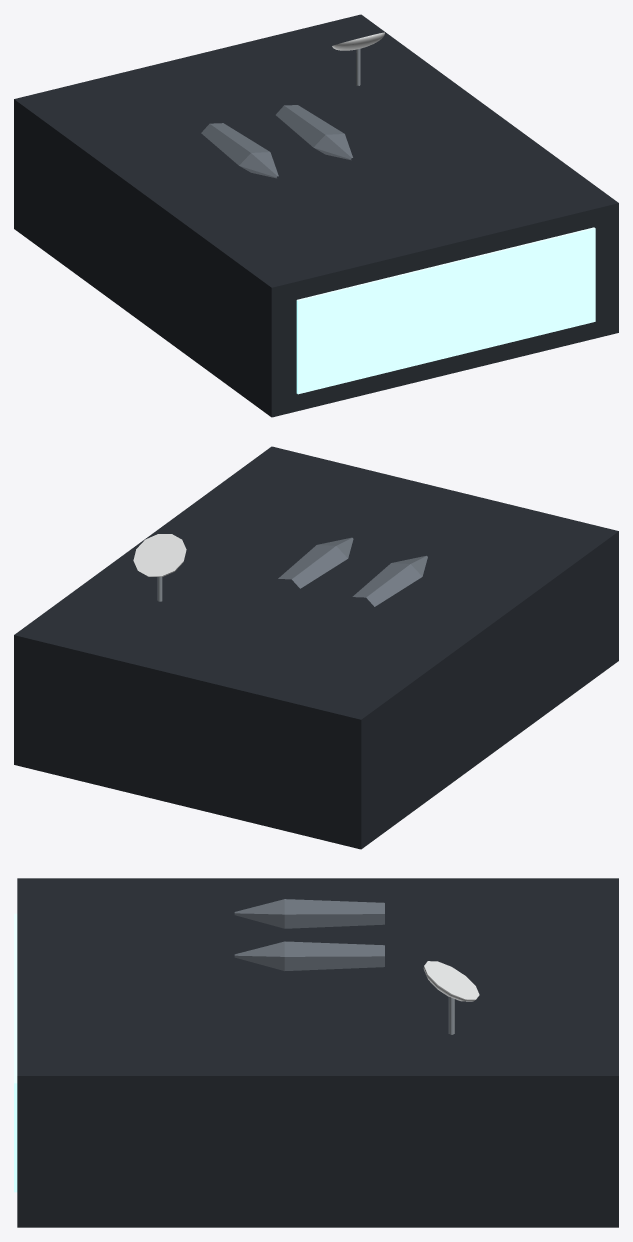
File: space_orbital_hangar_t2.glb
3 renders of one model, top to bottom at view 1: azimuth 30°, elevation 25°; view 2: azimuth 150°, elevation 25°; view 3: azimuth 270°, elevation 25°, orthographic. The views are drawn at different scales.
Visible parts, largest first — view 1: body, door, antenna_0; view 2: body, antenna_0; view 3: body, antenna_0, door.
Part boxes in pixels (x1,y1,x2,y2): body: (14,14,618,417); door: (296,227,595,394); antenna_0: (332,32,384,85); body: (14,446,618,849); antenna_0: (133,534,186,601); body: (17,878,618,1227); antenna_0: (423,961,479,1034); door: (14,913,17,1192).
Size of what is drawn, in the model's own units: 14 by 7.24 by 18.1.
